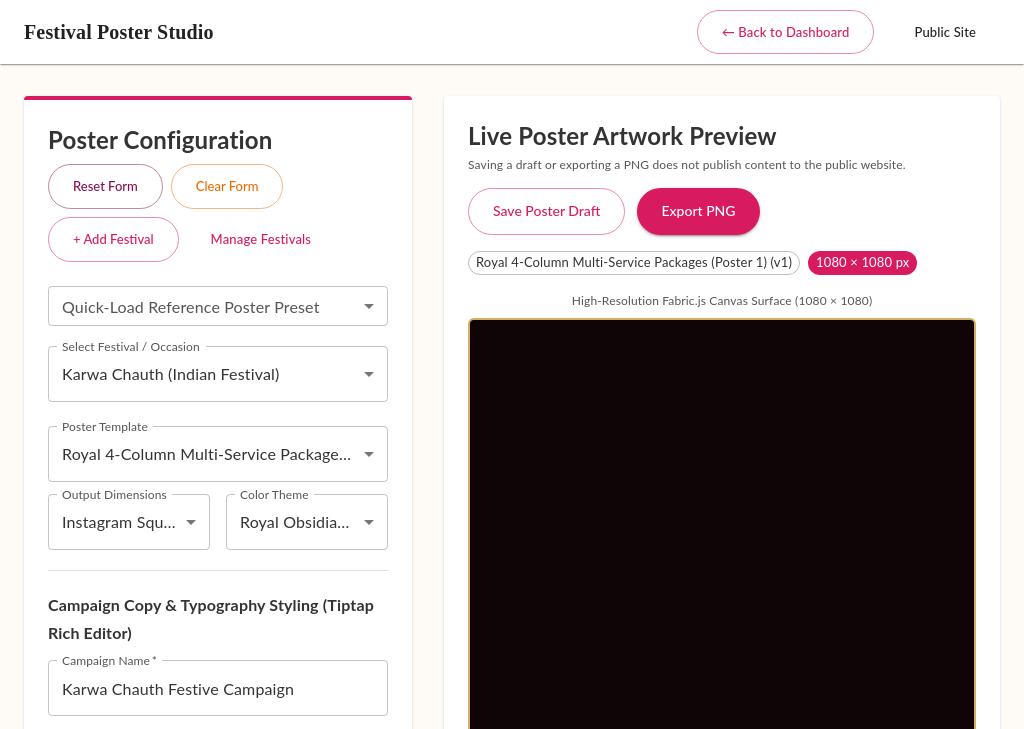
Test: Ticket 8 — Draft Persistence, Snapshot Immutability & PNG Export UI › shows retryable error alert when PNG export fails in headless environment
Click the button "Export PNG" at coordinates (698, 211), box [637,188,760,234]
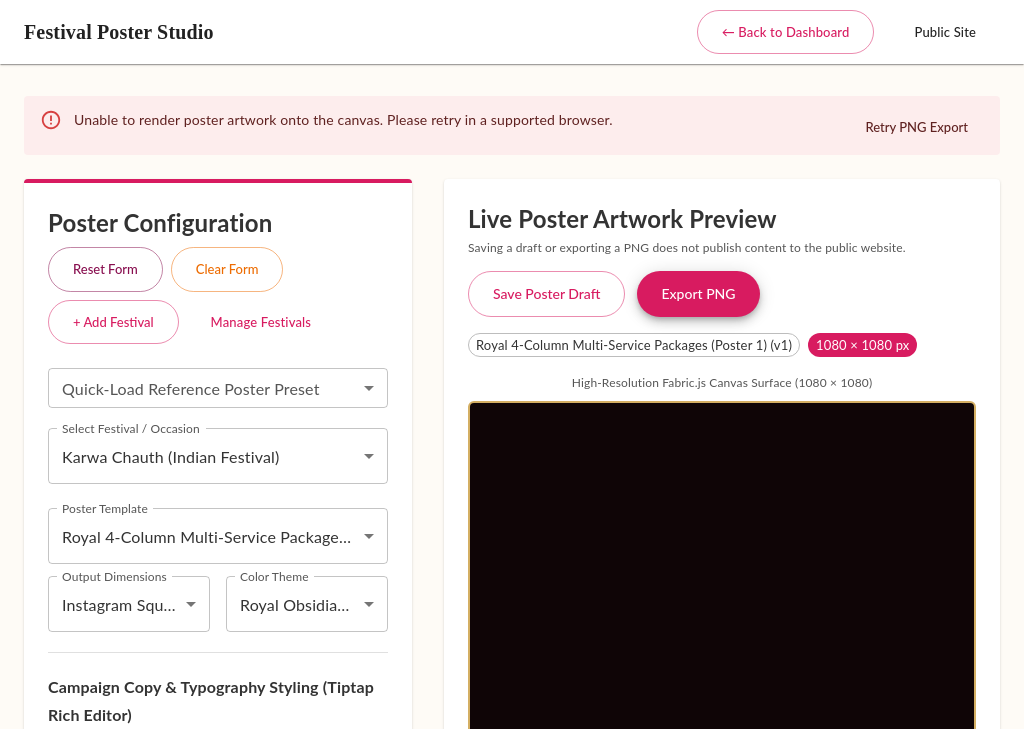
Now the message shows "Unable to render poster artwork onto the canvas", box [74,111,613,128]
Now the button "Retry PNG Export" is shown, box [841,106,992,149]
